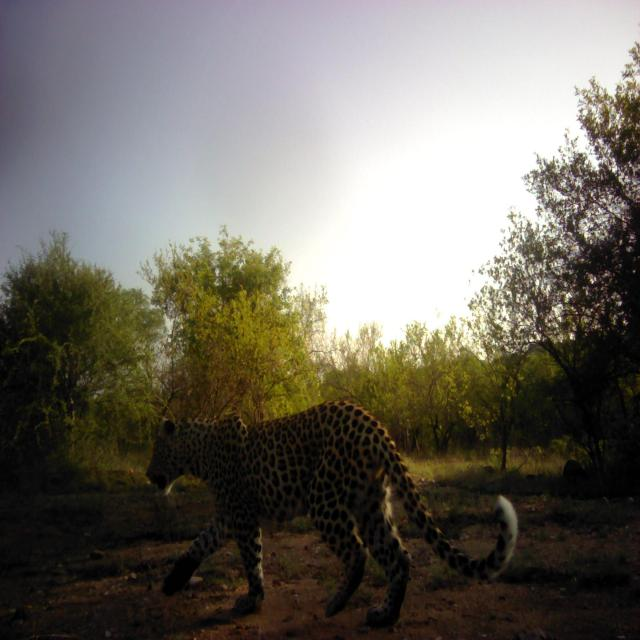Leopard: (138, 397, 513, 625)
